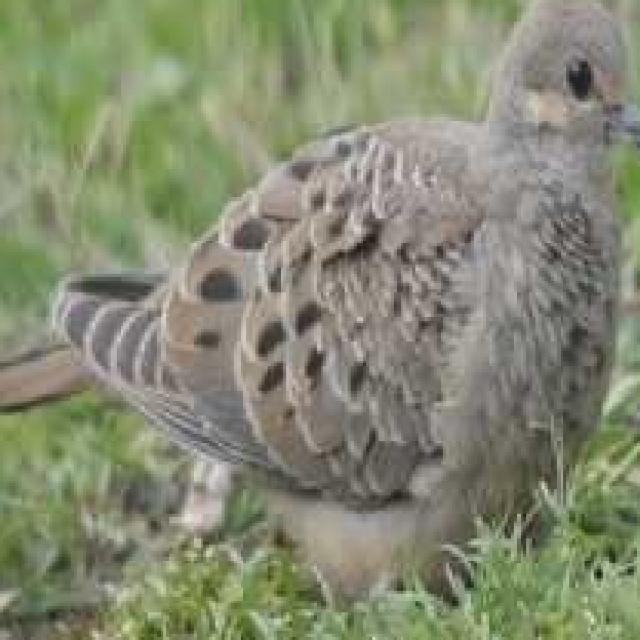bird: (0, 0, 640, 609)
